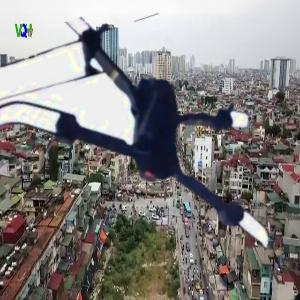drone: (7, 1, 298, 292)
